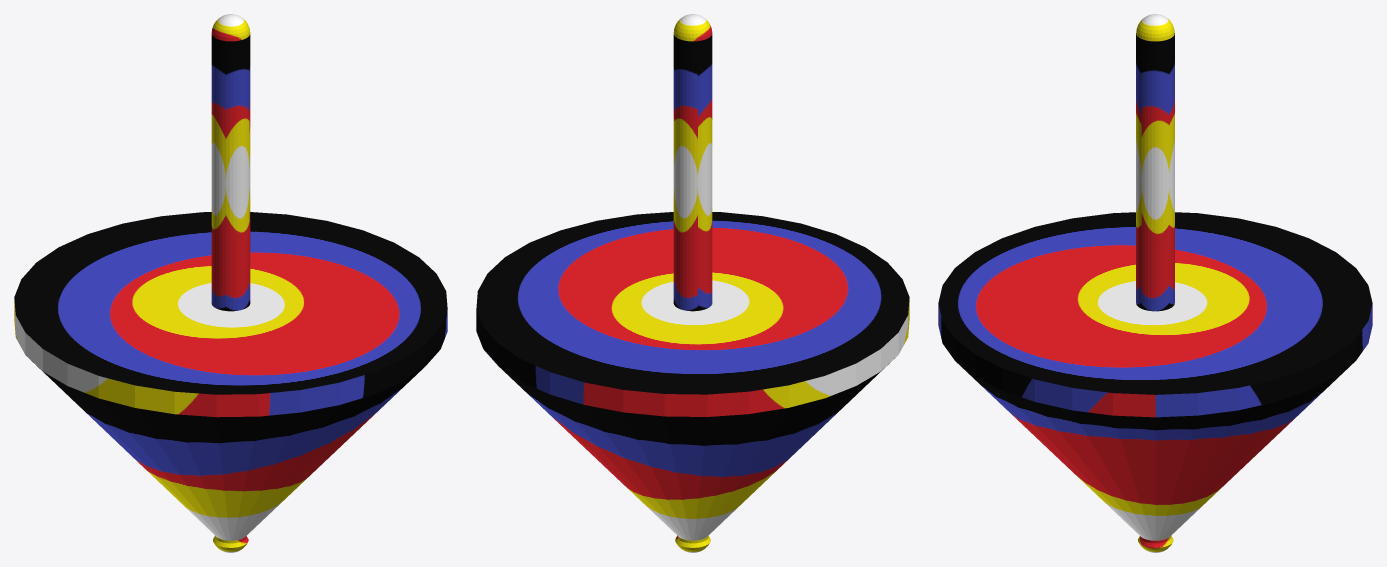
File: spinning top.fbx
The picture shows the model from 3 angles, left to right: view 1: azimuth 30°, elevation 25°; view 2: azimuth 150°, elevation 25°; view 3: azimuth 270°, elevation 25°; orthographic projection.
Visible parts, largest first — view 1: Lid, Cone, Handle; view 2: Lid, Cone, Handle; view 3: Lid, Cone, Handle.
Boxes of the visible parts, x1=… form: Lid: x1=14, y1=212, x2=447, y2=394; Cone: x1=14, y1=299, x2=447, y2=540; Handle: x1=211, y1=14, x2=250, y2=311; Lid: x1=476, y1=212, x2=909, y2=394; Cone: x1=476, y1=298, x2=909, y2=540; Handle: x1=673, y1=14, x2=712, y2=311; Lid: x1=938, y1=212, x2=1372, y2=394; Cone: x1=938, y1=304, x2=1372, y2=540; Handle: x1=1136, y1=14, x2=1174, y2=311.
Bounding box in the file's own units: 280 × 381 × 280.
